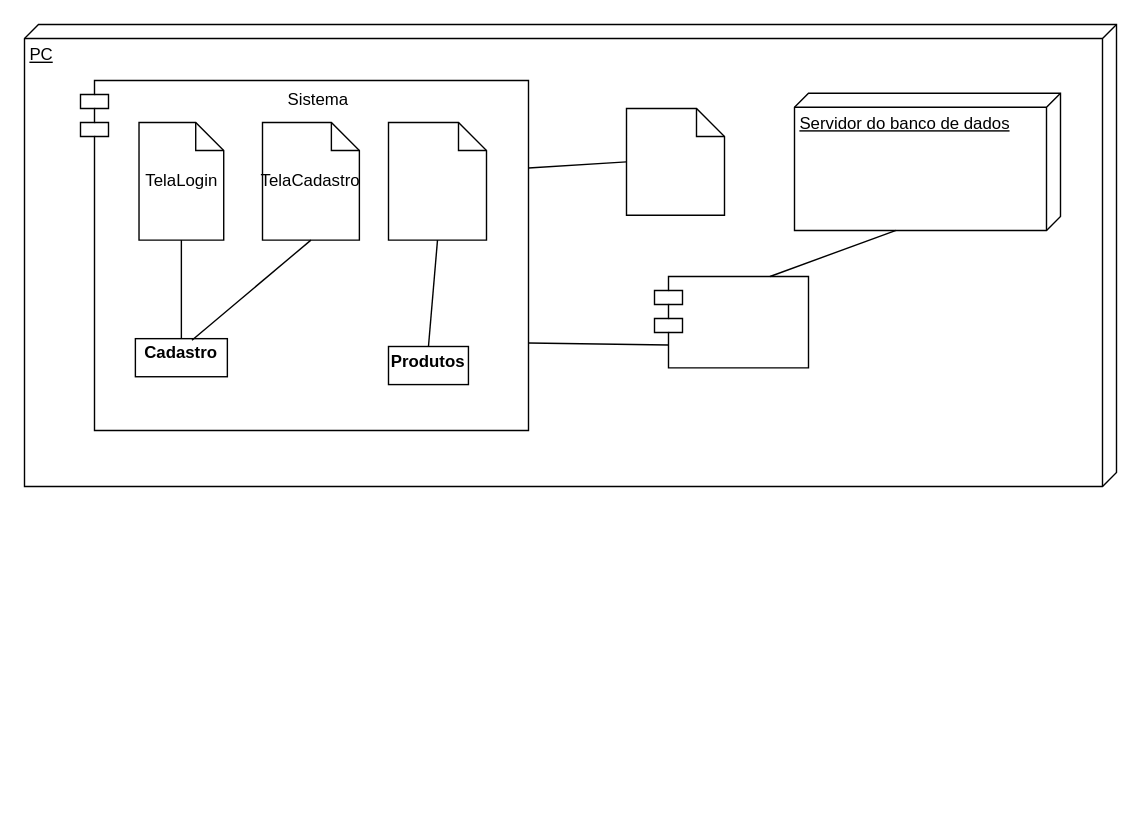
Image size: 1141x819. Some labels were removed from this diagram. The shapes that lost their labels are listed below. From the top down, each one's centre as x and y in pixels, then its label:
At (436,180): "TelaProdtos".
At (674,161): "Executavel".
At (730,321): "SQL Server".
